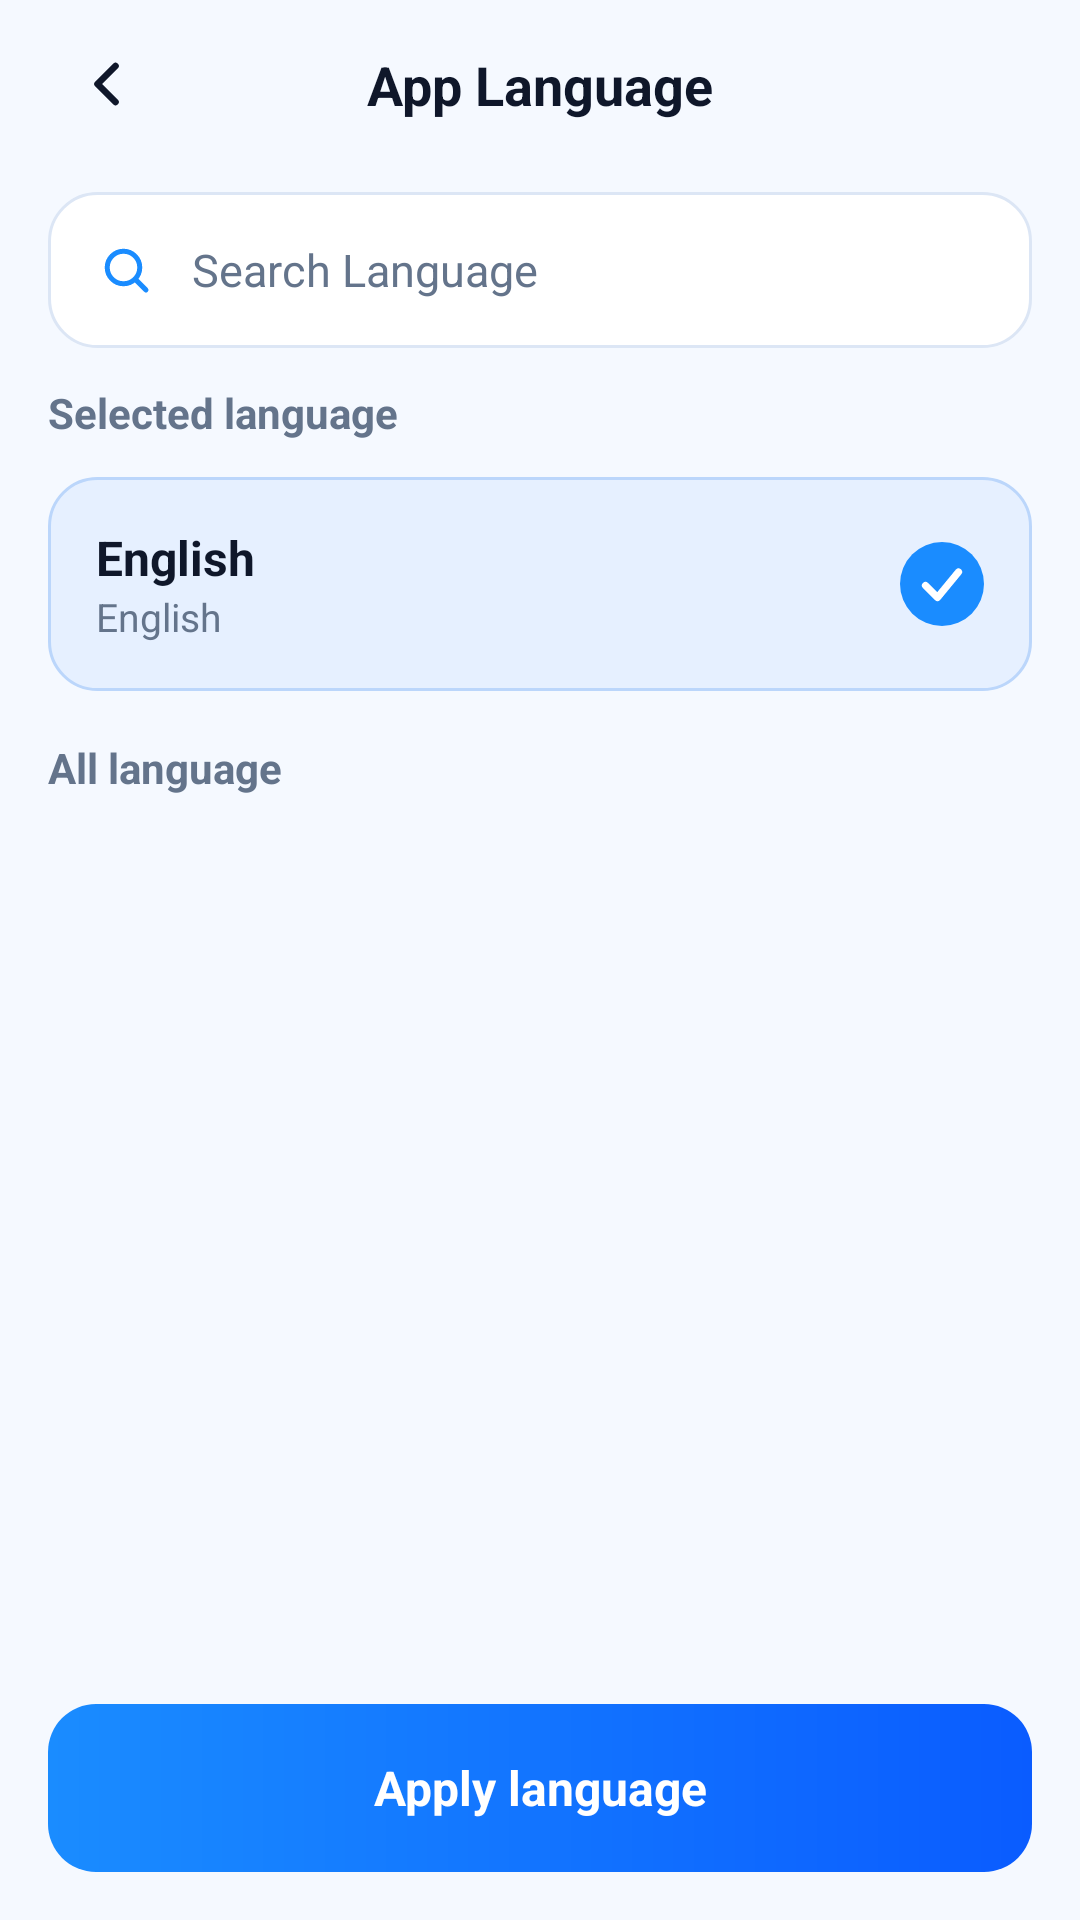

Point at icon controls on the screen. Image size 1080px×1920px, points as (x,y).
Back: (106,84)
check circle: (942,584)
